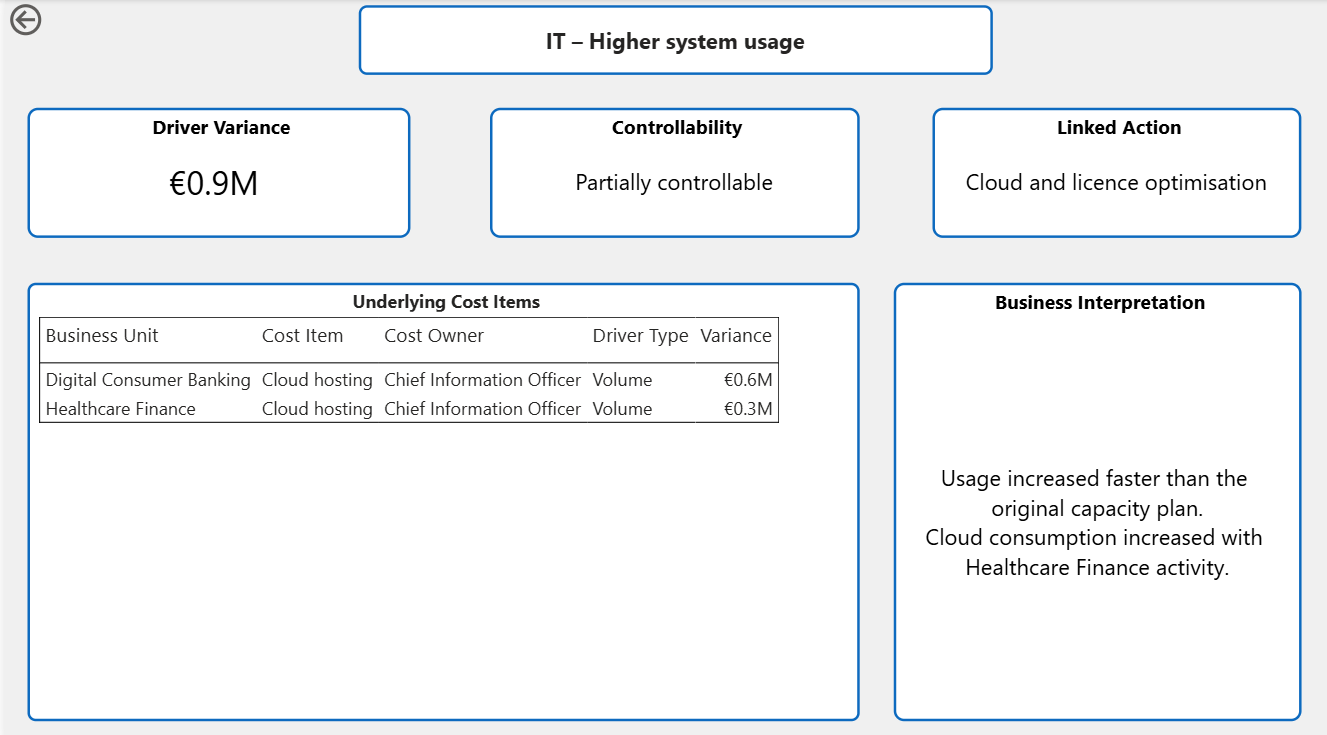

Layout of this report page (visuals, bound fields, positions):
{"tool":"powerbi","page":{"name":"Operational Driver Detail","canvas":[1280,720],"ordinal":3},"visuals":[{"type":"actionButton","box":[0,0,100,40],"z":0},{"type":"cardVisual","fields":{"Data":["_Measures.Driver Detail Message"]},"box":[341.1,6.5,612.1,67.4],"z":1000},{"type":"tableEx","title":"Underlying Cost Items","fields":{"Values":["CostItemMasterTable.Brand","OperationalDriverAnalysisTable.Cost_Item","OperationalDriverAnalysisTable.Cost_Owner","OperationalDriverAnalysisTable.Driver_Type","_Measures.Driver Variance (€m)"]},"box":[21.9,273.5,803.3,423.5],"z":2000},{"type":"card","title":"Driver Variance","fields":{"Values":["_Measures.Driver Variance (€m)"]},"box":[22,105,369.6,125.8],"z":3000},{"type":"card","title":"Controllability","fields":{"Values":["_Measures.Selected Controllability"]},"box":[468.2,105,356.6,125.8],"z":4000},{"type":"card","title":"Linked Action","fields":{"Values":["_Measures.Selected Linked Action"]},"box":[910.4,105,356.6,125.8],"z":5000},{"type":"card","title":"Business Interpretation","fields":{"Values":["_Measures.Selected Management Interpretation"]},"box":[858,273.5,393.8,423.5],"z":6000}]}

Visuals, with their boxes in screenshot pixels (x1, y1, x2, y2), scaled from the page's 1280x720 canvas onto the 1327x735 screenshot:
actionButton: <bbox>0, 0, 104, 41</bbox>
cardVisual - _Measures.Driver Detail Message: <bbox>354, 7, 988, 75</bbox>
"Underlying Cost Items" tableEx: <bbox>23, 279, 856, 712</bbox>
"Driver Variance" card: <bbox>23, 107, 406, 236</bbox>
"Controllability" card: <bbox>485, 107, 855, 236</bbox>
"Linked Action" card: <bbox>944, 107, 1314, 236</bbox>
"Business Interpretation" card: <bbox>890, 279, 1298, 712</bbox>
